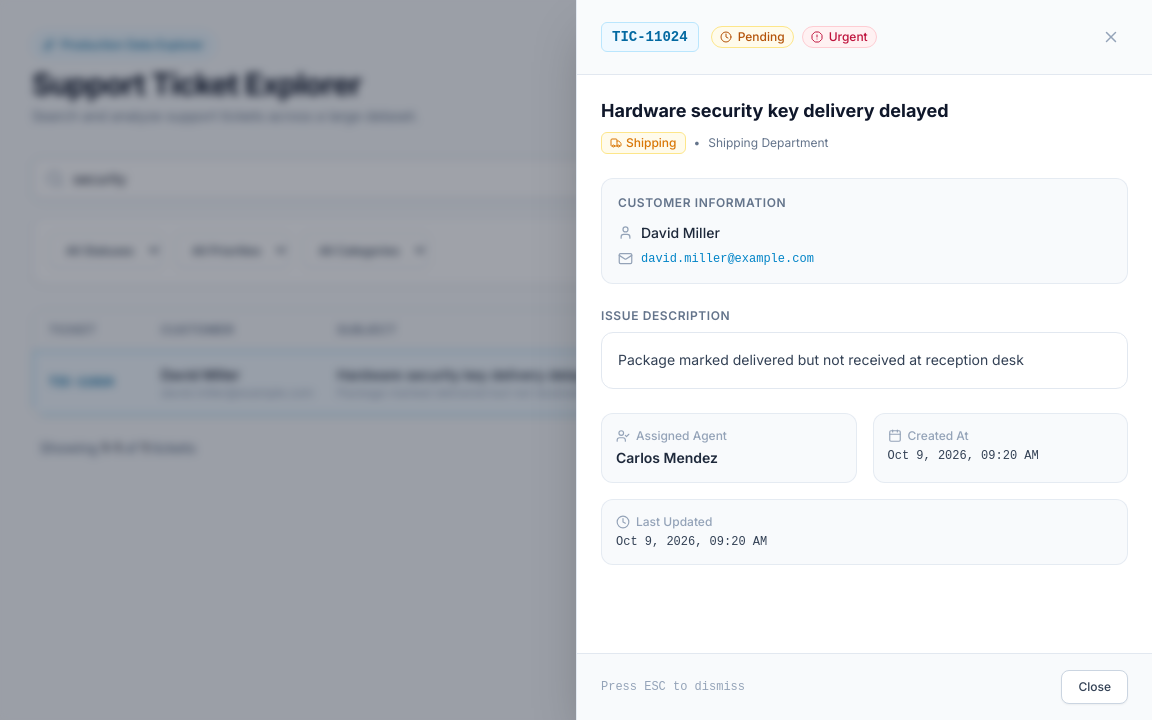
Test case: Detail Drawer Deep-Linking and Focus Flow › opens detail drawer from URL parameter, fetches detail, and closes cleanly
This screenshot has width=1152, height=720.
Expected: the heading "Customer Information" is shown, [618,195,786,210]
Expected: the text "Carlos Mendez" is shown, [616,448,718,466]
// Close the drawer using the close button
Click the button named "Close ticket details" at (1111, 37), box [1094,20,1128,54]
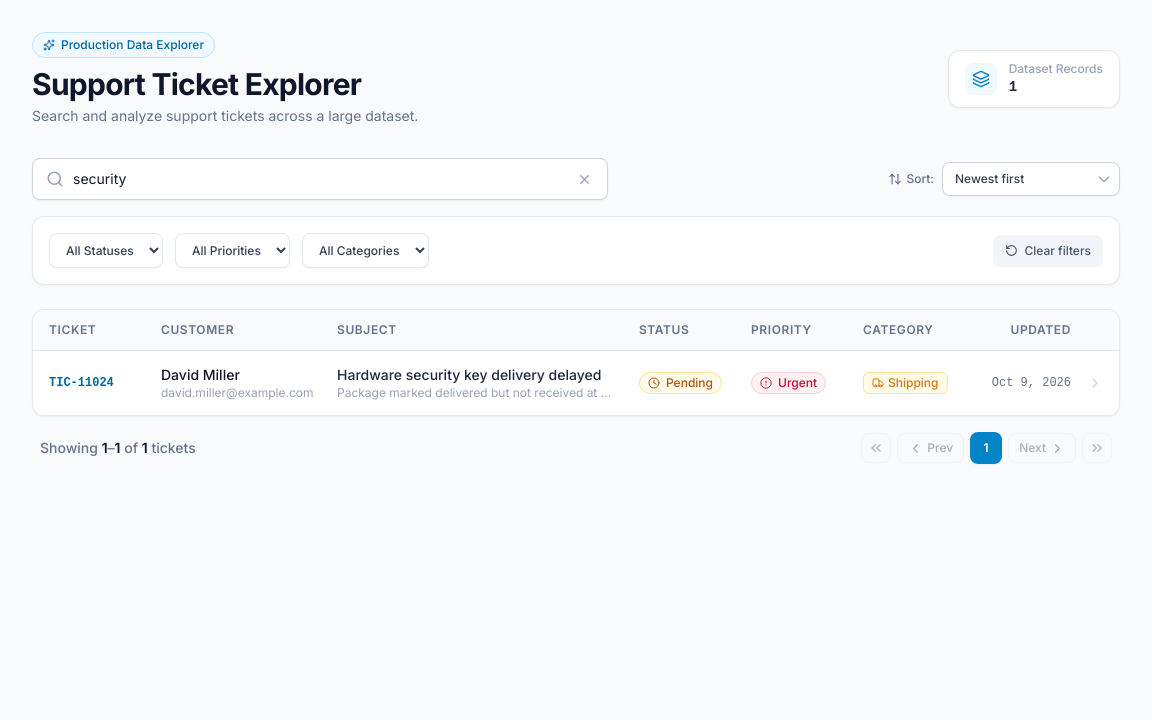
Expected: the dialog is gone
